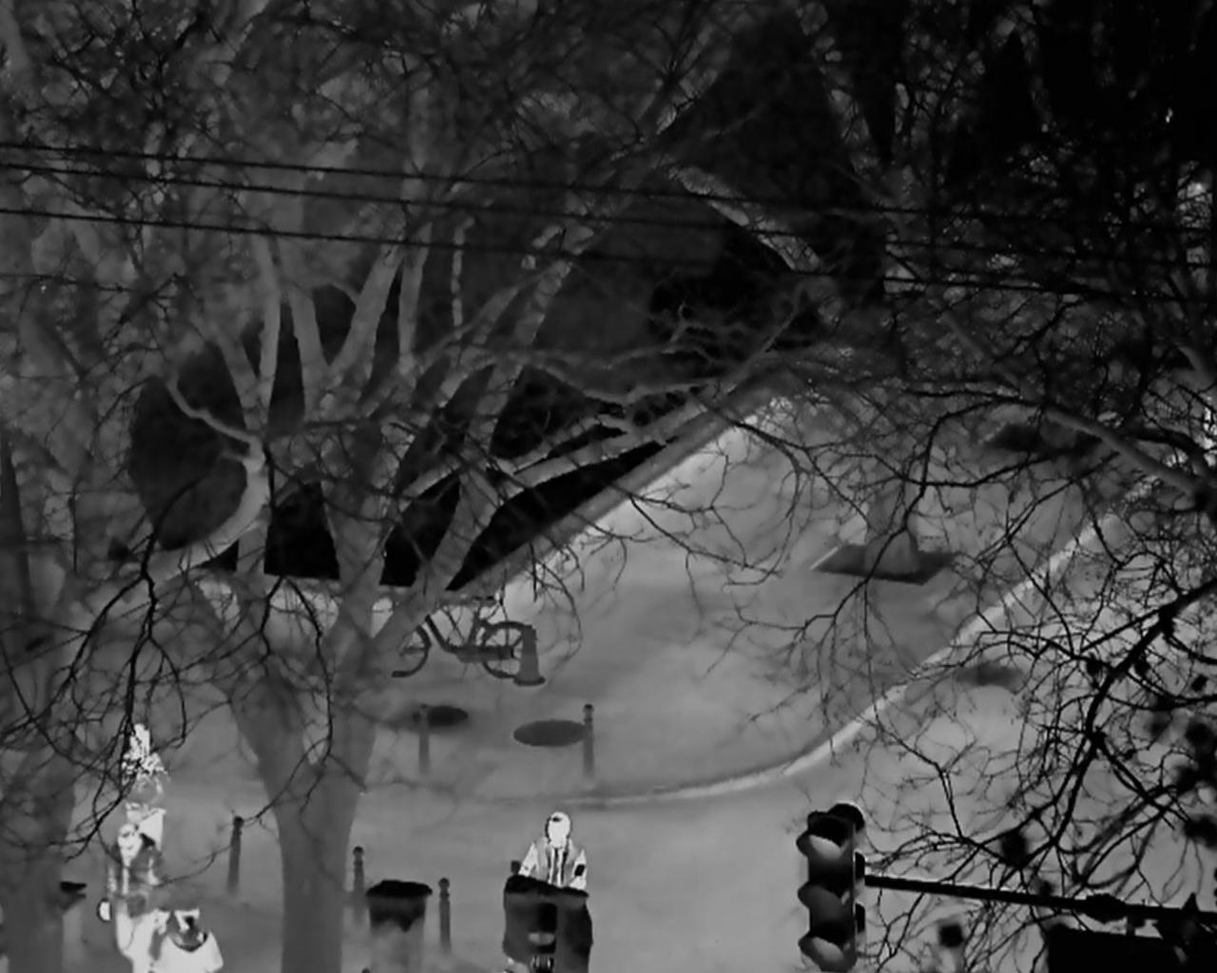person: (94, 824, 171, 973), (117, 723, 170, 856), (516, 806, 589, 888)
